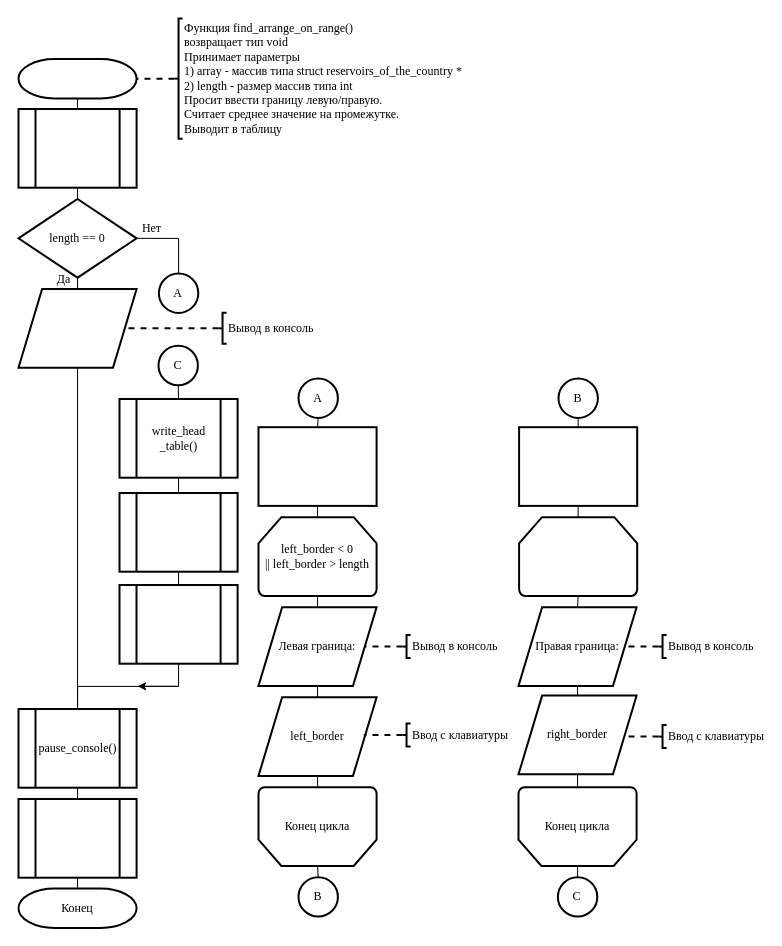
This 782x946 diagram has some shape labels left out. The shapes that lost their labels are listed below. From the top down, each one's centre as x and y in pixels, then its label:
the point at 77,78: void find_arrange _on_range()
the point at 77,148: clear_console()
the point at 77,328: Нет элементов для вычисления среднего значения \n
the point at 317,466: int left_border = -1
the point at 578,466: int right_border = left_border - 1
the point at 178,532: write_table_on _range(array, left_border, right_border)
the point at 578,556: right_border < left_border || right_border > length
the point at 178,624: out_average _values_in _line(array, left_border, right_border)
the point at 77,838: menu( array, length )
